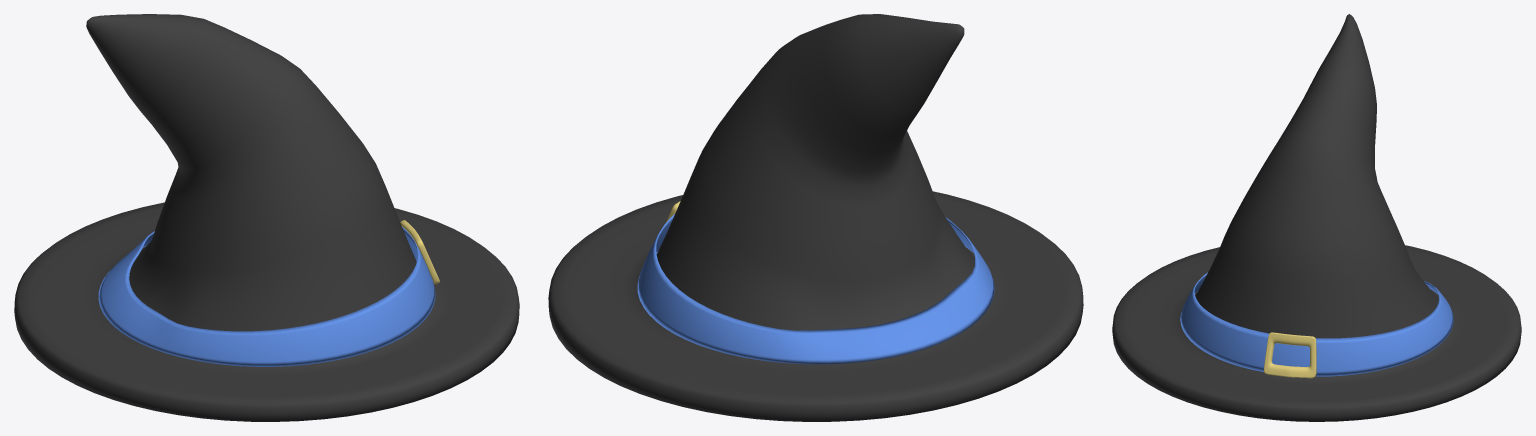
The model's file is witch_hat_norm.glb.
3 views of the same model, side by side, from view 1: azimuth 30°, elevation 25°; view 2: azimuth 150°, elevation 25°; view 3: azimuth 270°, elevation 25° (orthographic). The views are drawn at different scales.
Parts seen in each view (by area): view 1: Circle, Circle.001, Circle.002; view 2: Circle, Circle.001; view 3: Circle, Circle.001, Circle.002.
Boxes of the visible parts, left/top/right/bottom form: Circle: left=14, top=14, right=519, bottom=421; Circle.001: left=98, top=227, right=435, bottom=366; Circle.002: left=400, top=220, right=439, bottom=284; Circle: left=548, top=14, right=1083, bottom=421; Circle.001: left=637, top=214, right=994, bottom=364; Circle: left=1112, top=14, right=1521, bottom=421; Circle.001: left=1180, top=272, right=1453, bottom=376; Circle.002: left=1263, top=332, right=1316, bottom=378.
Size of the model in its own units: 1.62 by 1.15 by 1.62.
